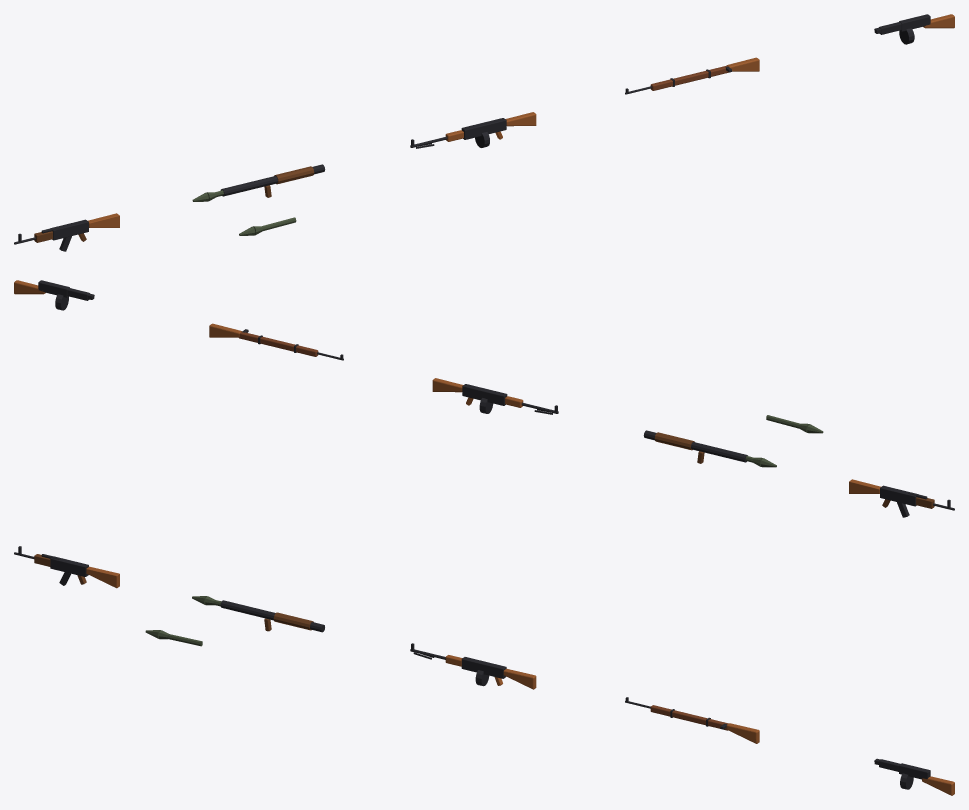
The model's file is vc_weapons.fbx.
The picture shows the model from 3 angles, top to bottom: view 1: azimuth 30°, elevation 25°; view 2: azimuth 150°, elevation 25°; view 3: azimuth 330°, elevation 25°; orthographic projection.
Visible parts, largest first — view 1: rpd_stock.002, mosin_wood, rpg_tube, rpd_receiver; view 2: rpd_stock.002, mosin_wood, rpd_receiver, rpg_tube; view 3: rpd_stock.002, rpg_tube, mosin_wood, rpd_receiver.
Part boxes in pixels (<box>): rpd_stock.002: <box>14,213,119,251</box>; mosin_wood: <box>650,65,728,90</box>; rpg_tube: <box>220,164,325,196</box>; rpd_receiver: <box>461,118,506,139</box>; rpd_stock.002: <box>849,479,954,517</box>; mosin_wood: <box>239,332,318,356</box>; rpd_receiver: <box>462,384,507,405</box>; rpg_tube: <box>643,430,747,462</box>; rpd_stock.002: <box>14,546,119,588</box>; rpg_tube: <box>220,600,324,632</box>; mosin_wood: <box>650,705,728,730</box>; rpd_receiver: <box>461,657,506,678</box>.
Bounding box in the file's own units: 578 × 16.33 × 56.78.
